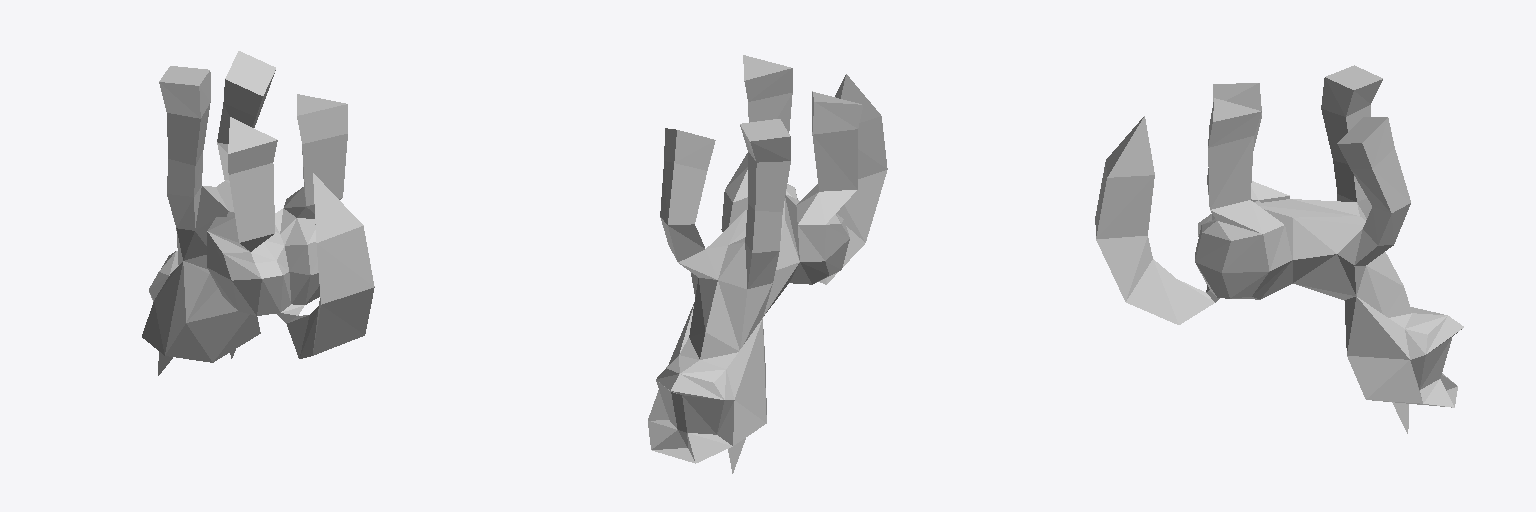
Rendered from PONY_000020.obj.
3 views of the same model, side by side, from view 1: azimuth 30°, elevation 25°; view 2: azimuth 150°, elevation 25°; view 3: azimuth 270°, elevation 25° (orthographic).
Visible parts, largest first — view 1: pony; view 2: pony; view 3: pony.
Boxes of the visible parts, x1,y1,x2,y2 form: pony: [142, 51, 374, 375]; pony: [648, 55, 887, 473]; pony: [1095, 65, 1463, 433].
Bounding box in the file's own units: 3.59 × 9 × 9.28.